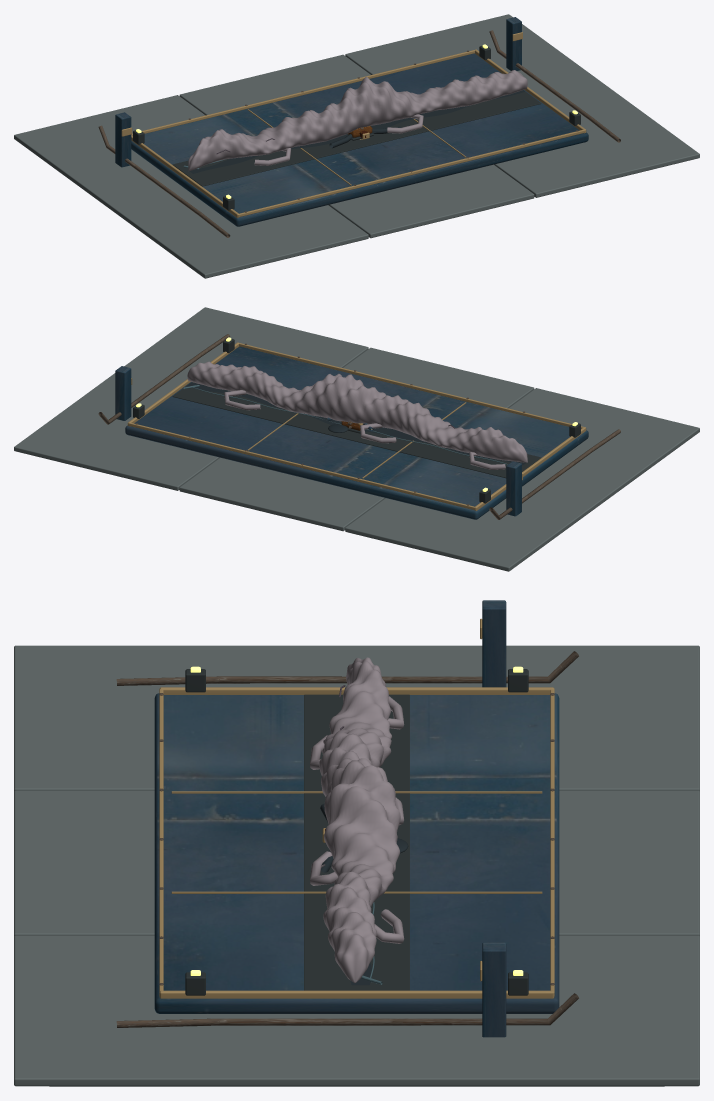
File: equipment-library-v5.glb
3 views of the same model, one above another, from view 1: azimuth 30°, elevation 25°; view 2: azimuth 150°, elevation 25°; view 3: azimuth 270°, elevation 25° (orthographic). The views are drawn at different scales.
Parts seen in each view (by area): view 1: Battle platform, Concrete slab, Concrete slab.002, Concrete slab.001, CreatureBody, Central inlay, Brass frame, Brass frame.001, ShadowBody, Checkpoint bollard, Exposed conduit.001, Checkpoint bollard.001 (+3 smaller); view 2: Battle platform, Concrete slab, Concrete slab.002, Concrete slab.001, CreatureBody, Central inlay, Brass frame.001, Brass frame, ShadowBody, Checkpoint bollard.001, Checkpoint bollard, Exposed conduit (+3 smaller); view 3: Battle platform, Concrete slab.002, Concrete slab, Concrete slab.001, CreatureBody, Central inlay, Exposed conduit.001, Side frame.001, Exposed conduit, Side frame, Checkpoint bollard.001, Checkpoint bollard (+4 smaller).
Part boxes in pixels (x1,y1,x2,y2): Battle platform: (131,53,588,226); Concrete slab: (14,95,368,278); Concrete slab.002: (345,14,699,197); Concrete slab.001: (179,54,534,238); CreatureBody: (188,70,527,171); Central inlay: (172,92,541,186); Brass frame: (238,130,585,217); Brass frame.001: (131,50,474,135); ShadowBody: (189,90,525,173); Checkpoint bollard: (115,112,131,167); Exposed conduit.001: (489,30,620,142); Checkpoint bollard.001: (506,17,521,70); Battle platform: (125,346,588,519); Concrete slab: (345,388,699,571); Concrete slab.002: (14,307,368,490); Concrete slab.001: (179,347,534,531); CreatureBody: (187,361,527,462); Central inlay: (172,382,541,478); Brass frame.001: (128,423,475,510); Brass frame: (239,343,583,428); ShadowBody: (186,382,526,465); Checkpoint bollard.001: (115,366,131,420); Checkpoint bollard: (506,461,521,516); Exposed conduit: (489,429,620,519); Battle platform: (154,693,559,1013); Concrete slab.002: (14,935,699,1086); Concrete slab: (14,645,699,791); Concrete slab.001: (14,790,699,936); CreatureBody: (319,657,400,982); Central inlay: (304,694,409,990); Exposed conduit.001: (116,993,578,1027); Side frame.001: (159,990,554,998); Exposed conduit: (116,651,578,685); Side frame: (160,687,553,694); Checkpoint bollard.001: (482,942,506,1037); Checkpoint bollard: (482,600,506,687).
Bounding box in the file's own units: 14.96 × 2.11 × 10.
15 materials, 4 textured.
